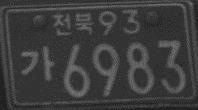3: (156, 39, 186, 94), (122, 8, 140, 35)
6: (63, 44, 92, 97)
8: (126, 40, 155, 93)
9: (90, 41, 120, 98), (98, 9, 116, 36)
가: (19, 44, 54, 83)
전북_O: (52, 12, 95, 36)
